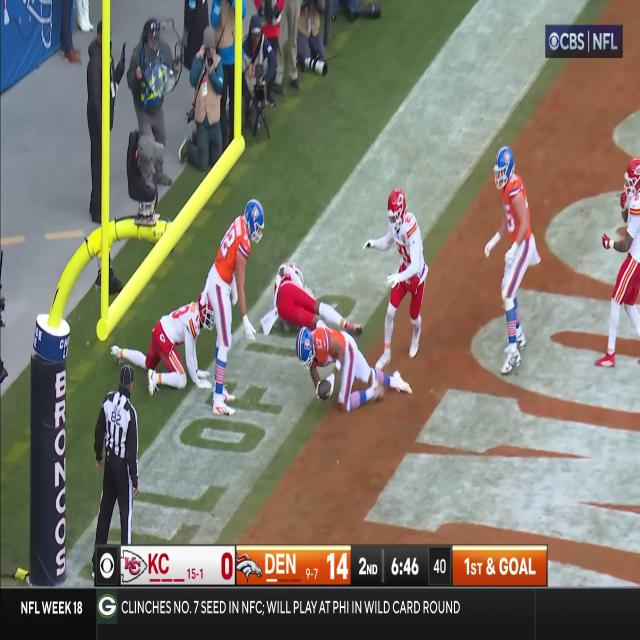Player: (487, 137, 534, 387), (209, 200, 258, 418), (378, 189, 425, 368), (298, 324, 390, 408), (138, 291, 211, 396), (609, 155, 640, 369), (274, 261, 346, 329)
Referee: (94, 360, 140, 544)
